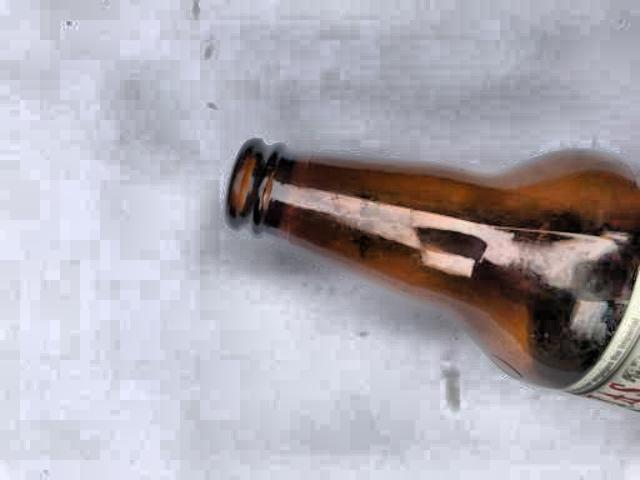Bottles: (195, 98, 640, 441)
